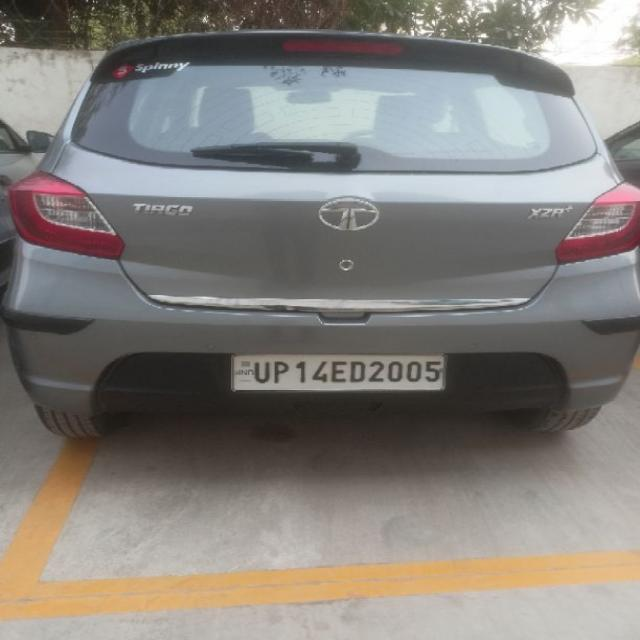license_plate: (229, 352, 447, 392)
